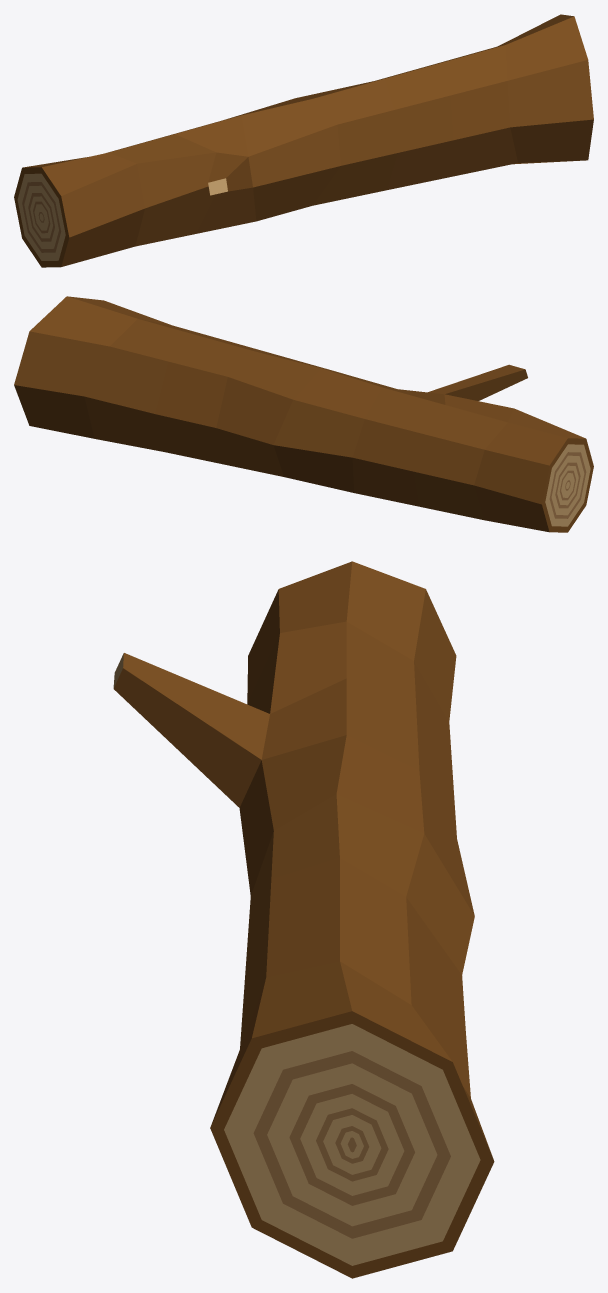
The model's file is Log1.fbx.
3 renders of one model, top to bottom at view 1: azimuth 30°, elevation 25°; view 2: azimuth 150°, elevation 25°; view 3: azimuth 270°, elevation 25°, orthographic. The views are drawn at different scales.
Visible parts, largest first — view 1: Cylinder; view 2: Cylinder; view 3: Cylinder.
Part boxes in pixels (x1=…): Cylinder: x1=14, y1=14, x2=593, y2=267; Cylinder: x1=14, y1=296, x2=593, y2=532; Cylinder: x1=113, y1=561, x2=494, y2=1278.
Bounding box in the file's own units: 524 × 129 × 167.
